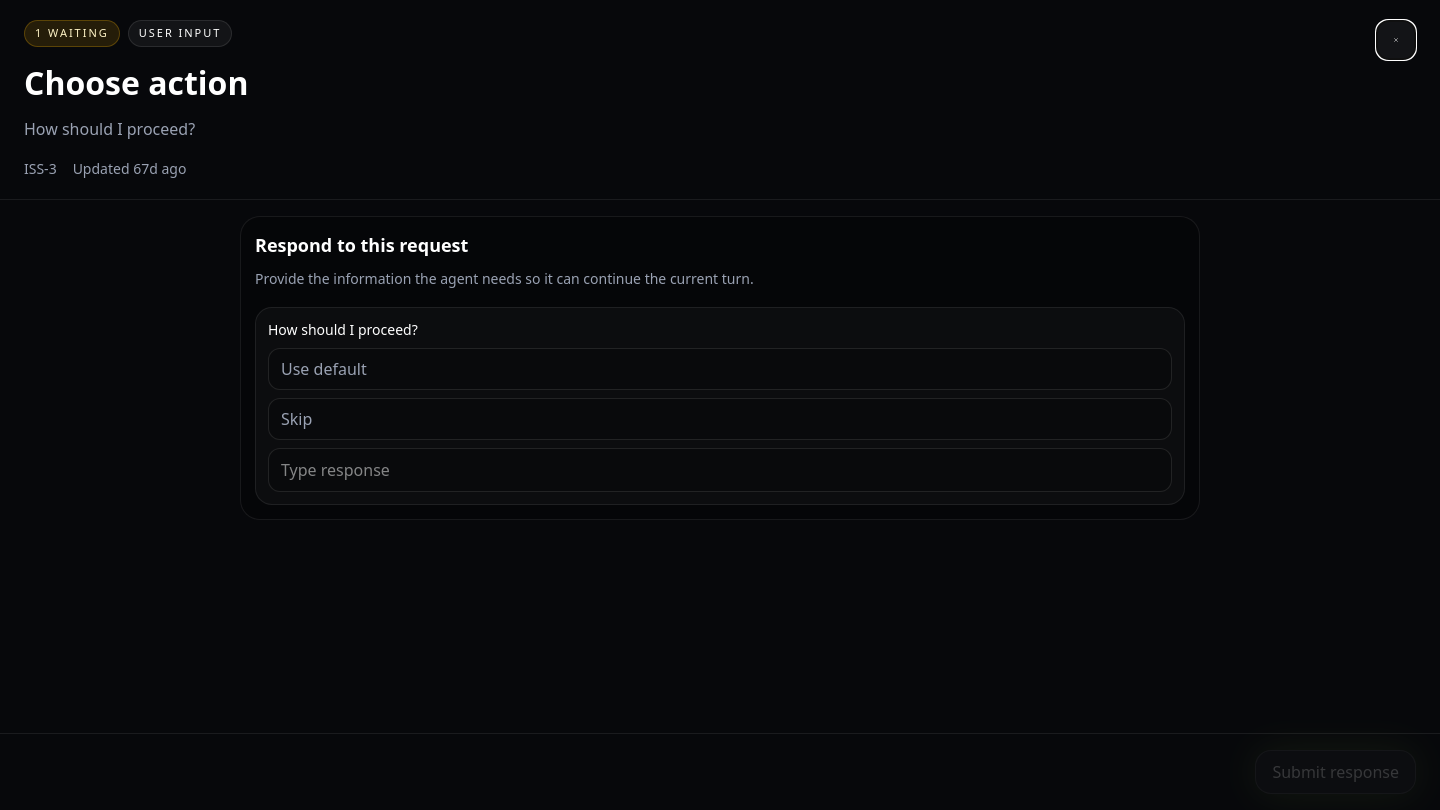
Test case: GlobalInterruptPanel › keeps the submit button when user input includes an other-answer text input
The image size is (1440, 810).
Expected: the button "Submit response" is disabled, [1255,750,1416,794]
Click the button "Use default" at [324, 368], box [268,348,1172,390]
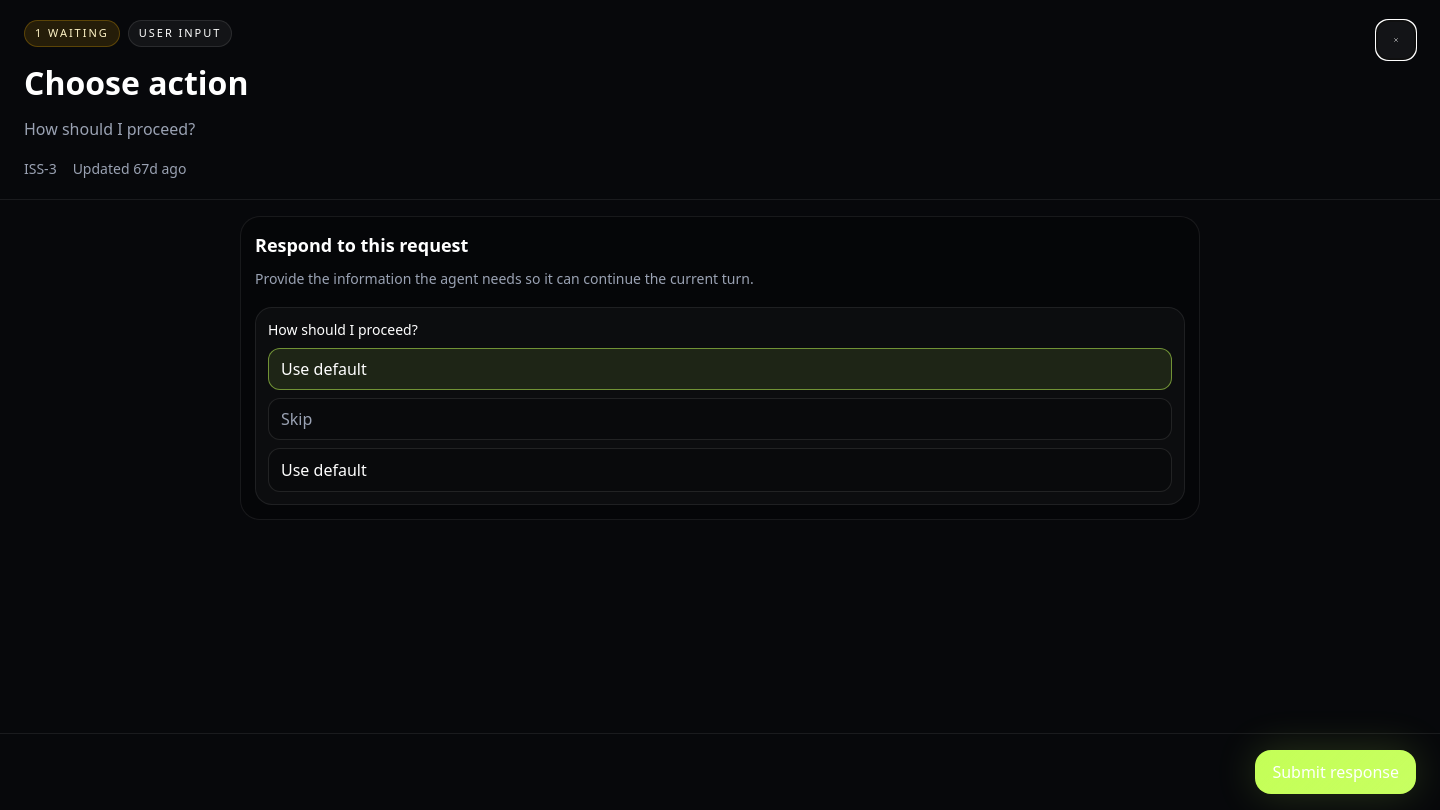
Now the button "Submit response" is enabled, box [1255,750,1416,794]
